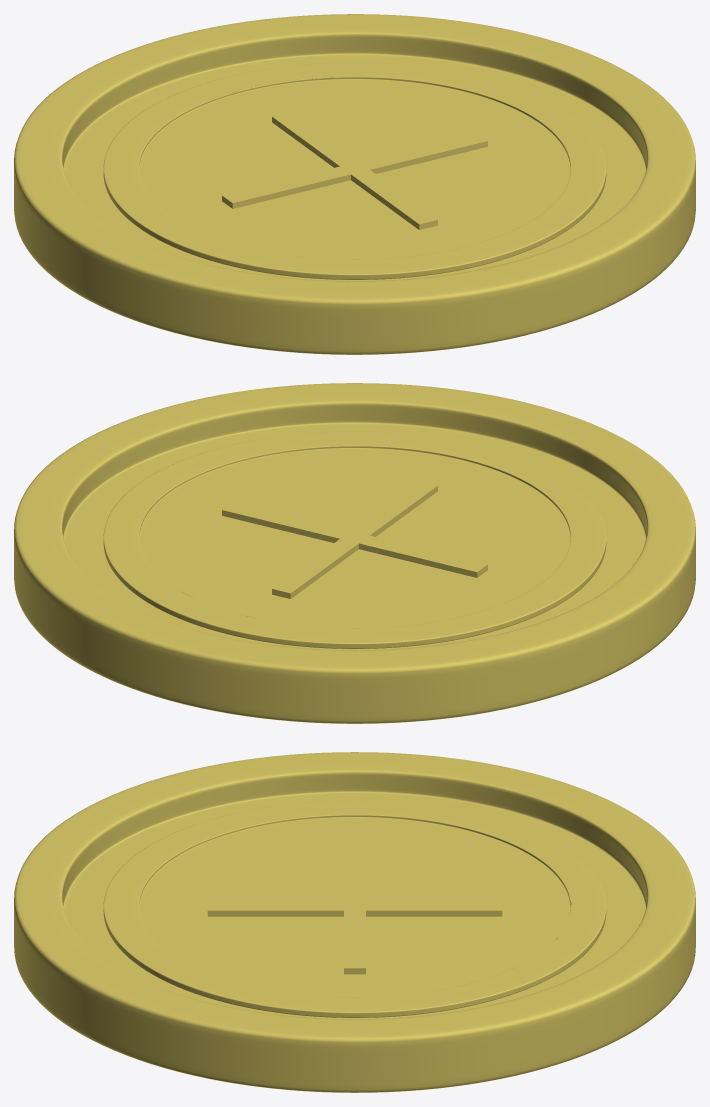
Rendered from coin.fbx.
3 renders of one model, top to bottom at view 1: azimuth 30°, elevation 25°; view 2: azimuth 150°, elevation 25°; view 3: azimuth 270°, elevation 25°, orthographic.
Parts seen in each view (by area): view 1: Cylinder, Cylinder.001, Cube.001, Cube; view 2: Cylinder, Cylinder.001, Cube.001, Cube; view 3: Cylinder, Cylinder.001, Cube, Cube.001.
Part boxes in pixels (x1=…): Cylinder: x1=14, y1=14, x2=695, y2=354; Cylinder.001: x1=103, y1=62, x2=606, y2=279; Cube.001: x1=222, y1=133, x2=487, y2=208; Cube: x1=272, y1=112, x2=437, y2=229; Cylinder: x1=14, y1=383, x2=695, y2=723; Cylinder.001: x1=103, y1=431, x2=606, y2=648; Cube.001: x1=222, y1=502, x2=487, y2=577; Cube: x1=272, y1=481, x2=437, y2=598; Cylinder: x1=14, y1=752, x2=695, y2=1092; Cylinder.001: x1=103, y1=800, x2=606, y2=1017; Cube: x1=207, y1=901, x2=502, y2=916; Cube.001: x1=344, y1=844, x2=365, y2=974.
Bounding box in the file's own units: 199 × 17.58 × 199.
